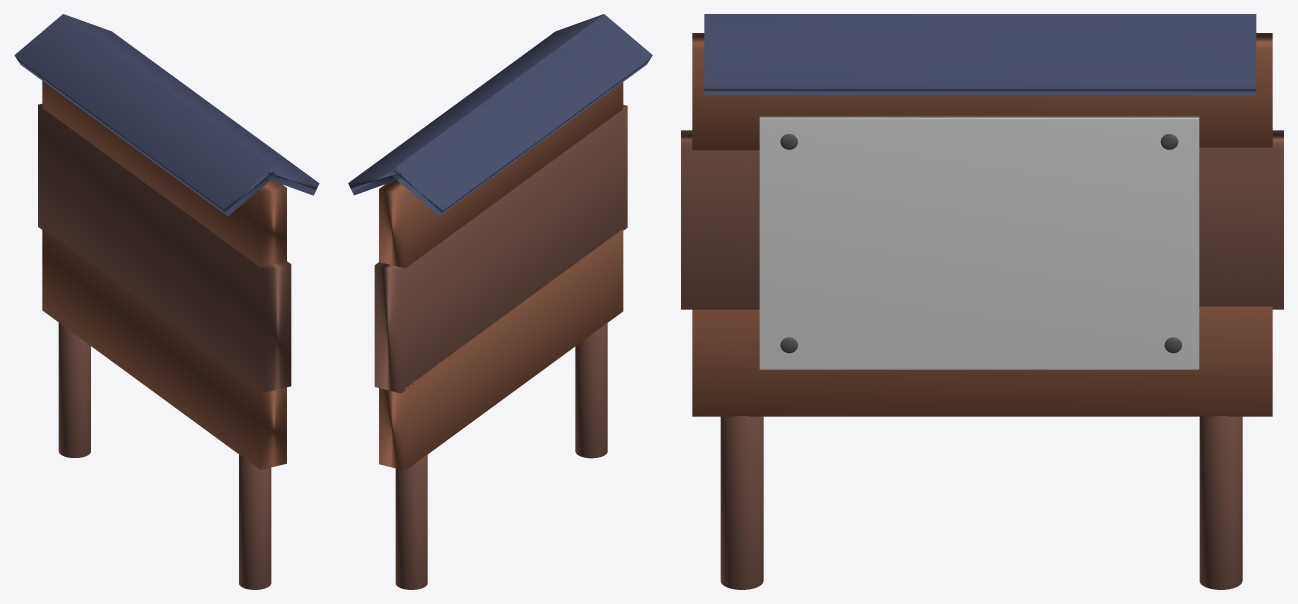
Rendered from bulletin.fbx.
3 views of the same model, side by side, from view 1: azimuth 30°, elevation 25°; view 2: azimuth 150°, elevation 25°; view 3: azimuth 270°, elevation 25° (orthographic). The views are drawn at different scales.
Parts seen in each view (by area): view 1: Cube.002, Cube.001, Cube.004, Cube, Cube.003, Cylinder, Cylinder.001; view 2: Cube.002, Cube.001, Cube.004, Cube, Cube.003, Cylinder.001, Cylinder; view 3: Cube.005, Cube.003, Cube.001, Cube.002, Cube, Cylinder.001, Cylinder.
Part boxes in pixels (box(x1,y1,x2,y2)): Cube.002: box(38, 104, 291, 392); Cube.001: box(42, 228, 286, 469); Cube.004: box(14, 14, 275, 216); Cube: box(42, 81, 286, 267); Cube.003: box(63, 14, 319, 195); Cylinder: box(239, 454, 271, 589); Cylinder.001: box(58, 322, 90, 457); Cube.002: box(374, 104, 627, 393); Cube.001: box(379, 229, 623, 470); Cube.004: box(392, 14, 652, 216); Cube: box(379, 82, 623, 268); Cube.003: box(348, 14, 603, 195); Cylinder.001: box(395, 454, 427, 589); Cylinder: box(575, 323, 607, 458); Cube.005: box(759, 116, 1199, 369); Cube.003: box(704, 14, 1256, 95); Cube.001: box(692, 306, 1272, 416); Cube.002: box(681, 130, 1283, 309); Cube: box(692, 33, 1272, 150); Cylinder.001: box(1199, 416, 1242, 589); Cylinder: box(720, 416, 763, 589).
Bounding box in the file's own units: 43.64 × 182 × 176.
